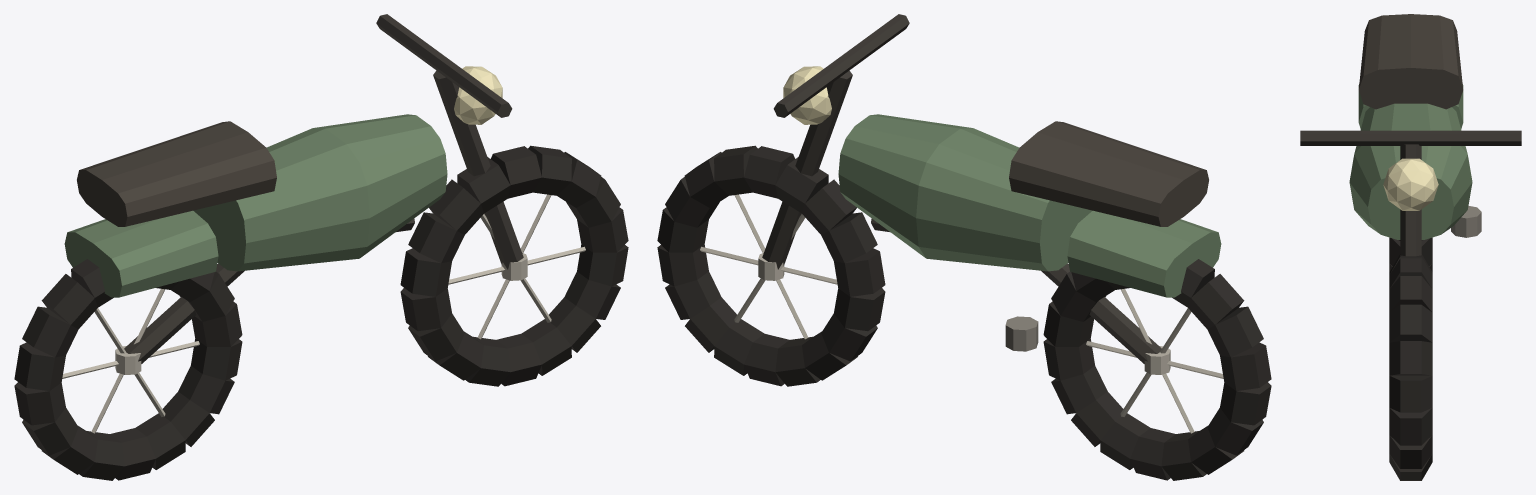
The model's file is motosiklet-zeytin.glb.
3 renders of one model, left to right at view 1: azimuth 30°, elevation 25°; view 2: azimuth 150°, elevation 25°; view 3: azimuth 270°, elevation 25°, orthographic. The views are drawn at different scales.
Parts seen in each view (by area): view 1: lastik, a_zeytin, ic, demir, jant, far; view 2: lastik, a_zeytin, ic, demir, jant, far, tampon; view 3: lastik, a_zeytin, ic, demir, far, tampon.
Boxes of the visible parts, <box> form: lastik: <box>14,145,628,480</box>; a_zeytin: <box>64,114,447,297</box>; ic: <box>77,121,276,226</box>; demir: <box>124,14,523,363</box>; jant: <box>62,194,585,433</box>; far: <box>454,66,502,124</box>; lastik: <box>657,145,1271,480</box>; a_zeytin: <box>838,114,1221,297</box>; ic: <box>1009,121,1208,226</box>; demir: <box>762,14,1161,363</box>; jant: <box>700,194,1223,433</box>; far: <box>783,66,831,124</box>; tampon: <box>1005,316,1038,351</box>; lastik: <box>1389,237,1432,480</box>; a_zeytin: <box>1349,84,1472,239</box>; ic: <box>1358,14,1463,109</box>; demir: <box>1300,130,1521,256</box>; far: <box>1383,158,1438,210</box>; tampon: <box>1451,206,1481,237</box>.
Size of the model in its own units: 2.06 by 1.1 by 0.72.
